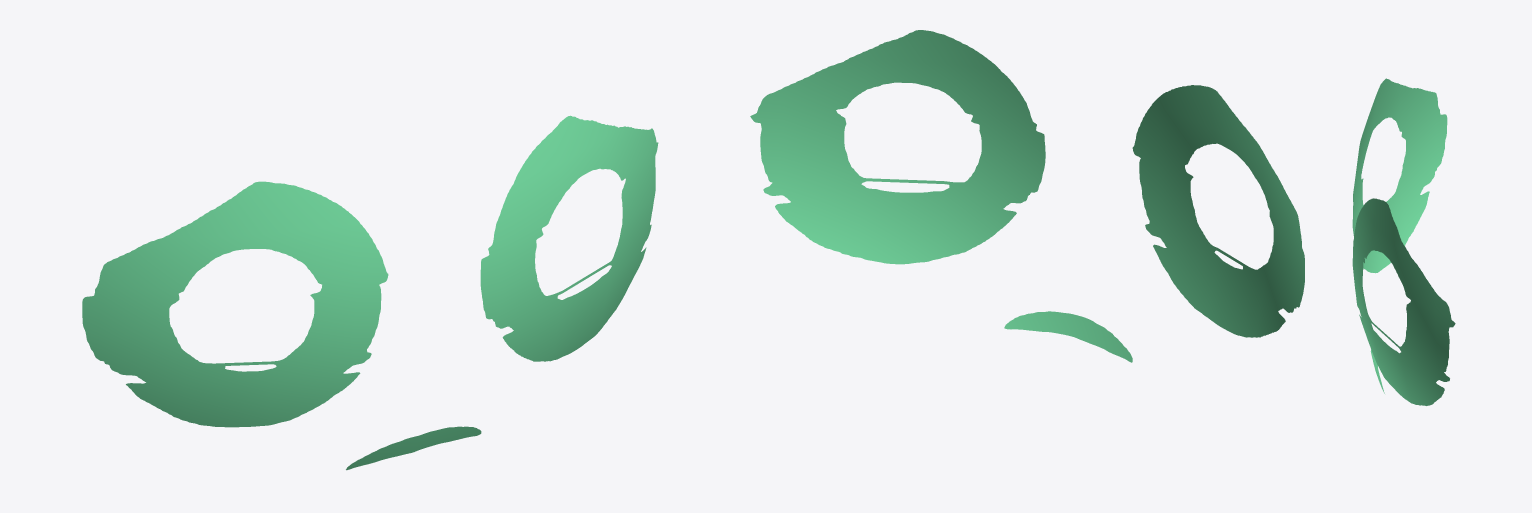
The model's file is Sad Robot Face.fbx.
3 renders of one model, left to right at view 1: azimuth 30°, elevation 25°; view 2: azimuth 150°, elevation 25°; view 3: azimuth 270°, elevation 25°, orthographic. The views are drawn at different scales.
Parts seen in each view (by area): view 1: Sad Robot; view 2: Sad Robot; view 3: Sad Robot.
Part boxes in pixels (x1=…): Sad Robot: x1=82, y1=115, x2=658, y2=470; Sad Robot: x1=750, y1=30, x2=1304, y2=362; Sad Robot: x1=1352, y1=78, x2=1455, y2=405.
Bounding box in the file's own units: 49.48 × 24.37 × 14.43.
